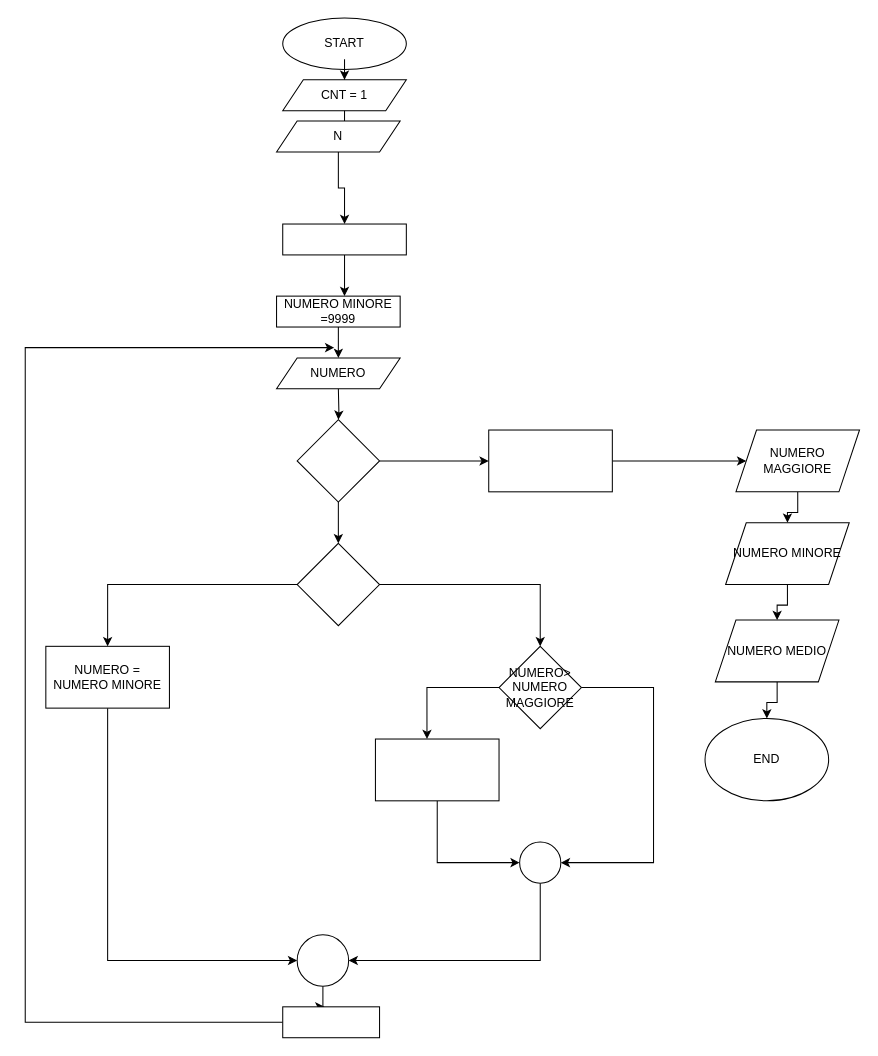
This 878x1056 diagram has some shape labels left out. The centre of each missing label's shape, as x and y in pixels:
CNT ++: pixel 331 1022
CNT<=N: pixel 338 460
MEDIA = NUMERO MINORE + NUMERO MAGGIORE/2: pixel 550 460
NUMERO = NUMERO MAGGIORE: pixel 436 769
NUMERO MAGGIORE = -9999: pixel 344 239
NUMERO< NUMERO MINORE: pixel 338 584
